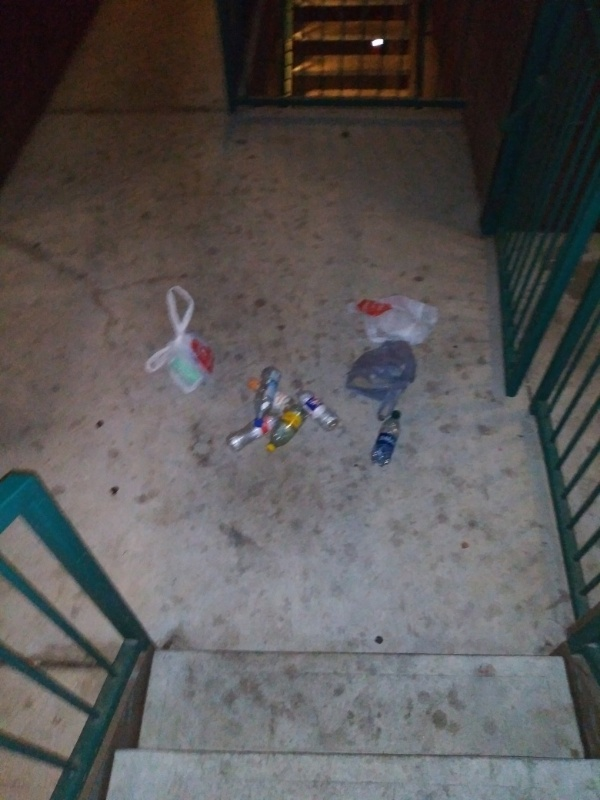bottle: (290, 384, 343, 432), (224, 412, 282, 453), (262, 404, 305, 456), (367, 406, 403, 468), (245, 374, 296, 411), (252, 365, 281, 430)
